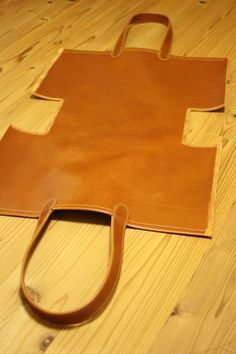cuero: (1, 14, 228, 326)
